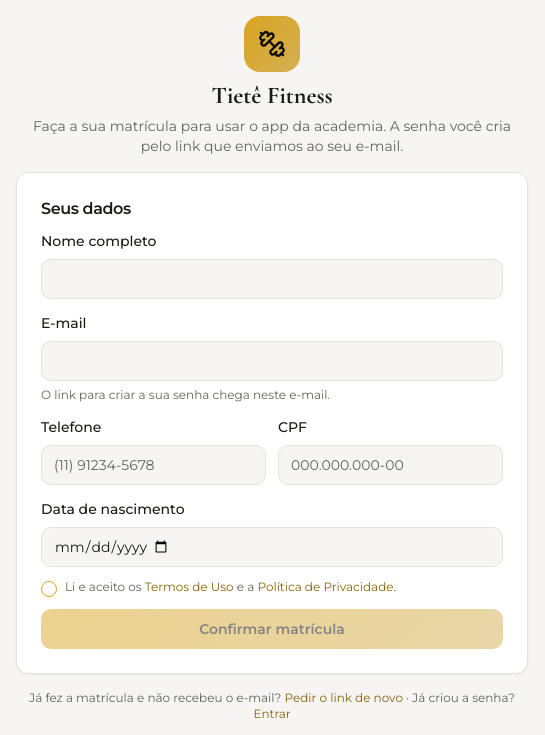
Test: PublicMatricula sem senha › manda os dados sem senha e diz que o link de criar a senha foi para o e-mail
Check: the text "Seus dados" is shown, box [41,199,131,218]
In the field labelled "Nome completo": (272,279) [41,259,503,299], type "Ana Souza"
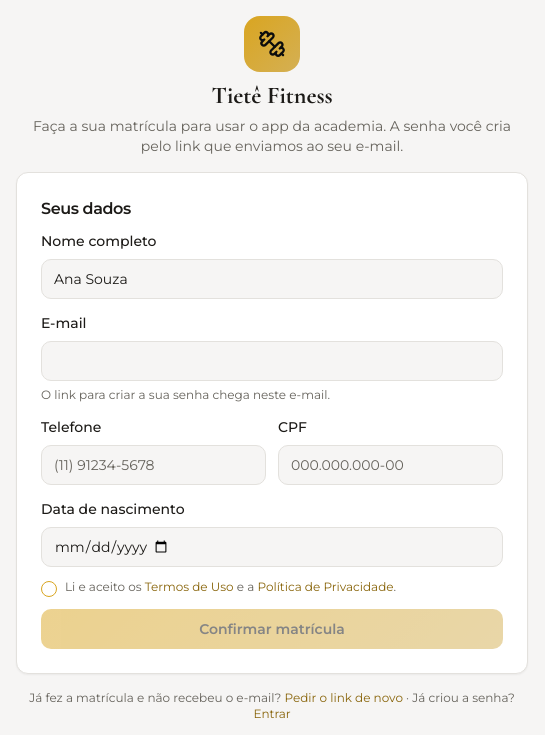
In the field labelled "E-mail": (272,361) [41,341,503,381], type "ana@exemplo.com"
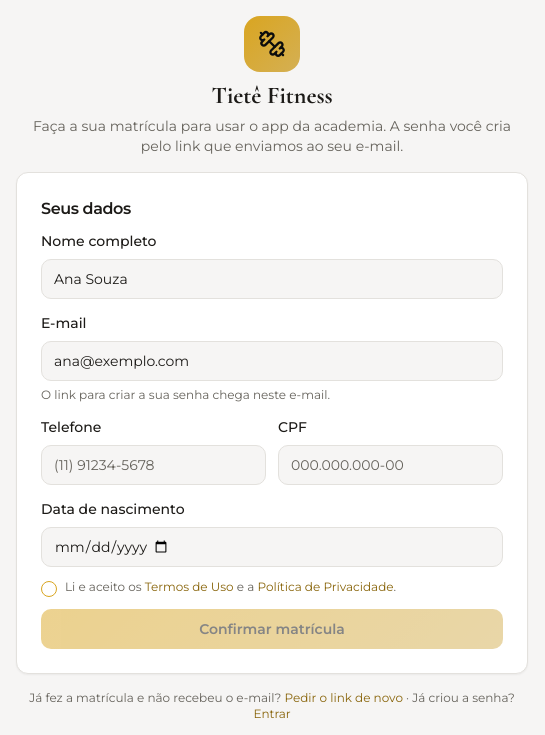
In the field labelled "CPF": (390,465) [278,445,503,485], type "529.982.247-25"
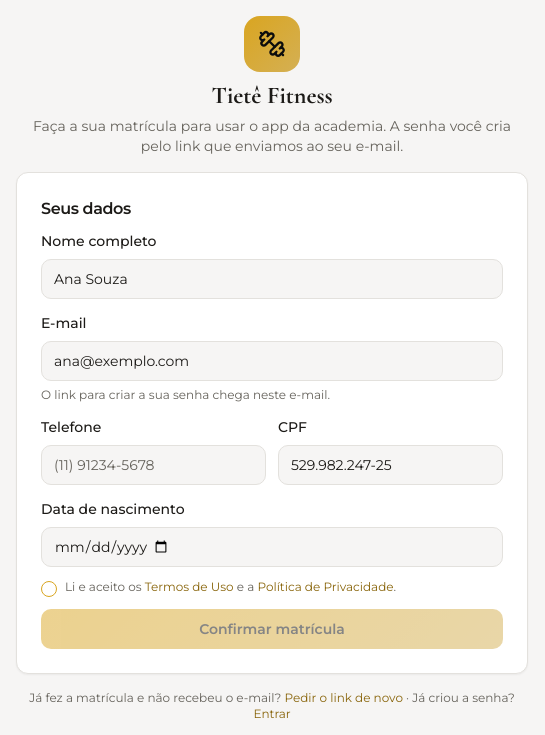
In the date field labelled "Data de nascimento": (272,547) [41,527,503,567], type "1990-05-10"
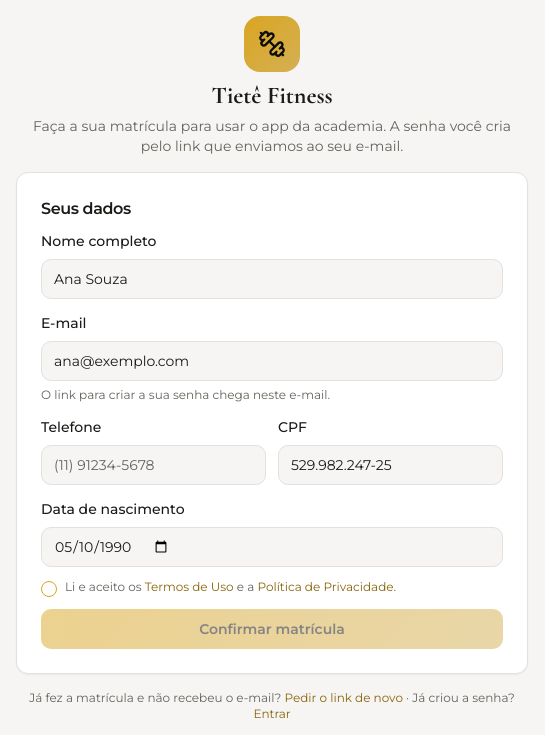
Click the checkbox: (49,589) [41,581,57,597]
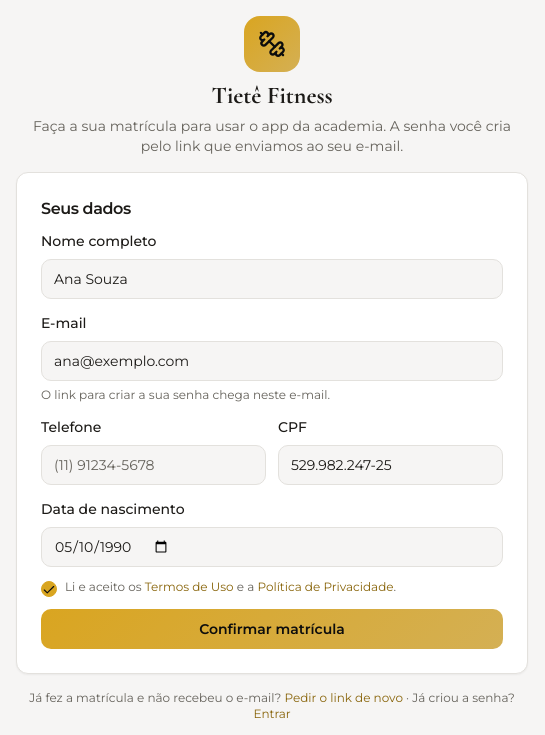
Click the button "Confirmar matrícula": (272,629) [41,609,503,649]
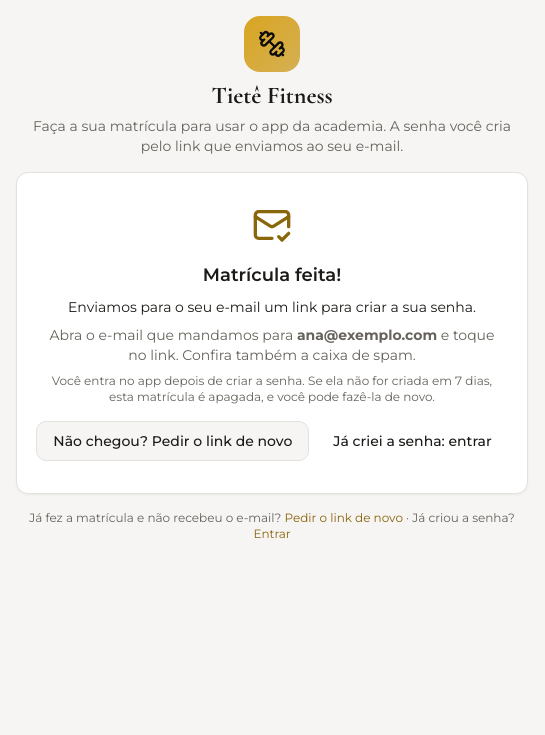
Check: the text "Matrícula feita!" is shown, box [203,264,341,286]
Check: the text "Enviamos para o seu e-mail um link para criar a sua senha." is shown, box [41,297,503,317]
Check: the text "ana@exemplo.com" is shown, box [297,326,437,344]
